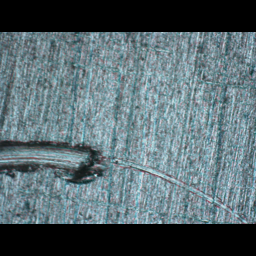d: (0, 140, 254, 223)
